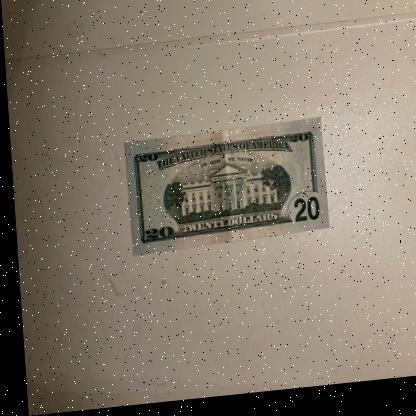dollar_back: (122, 124, 326, 260)
